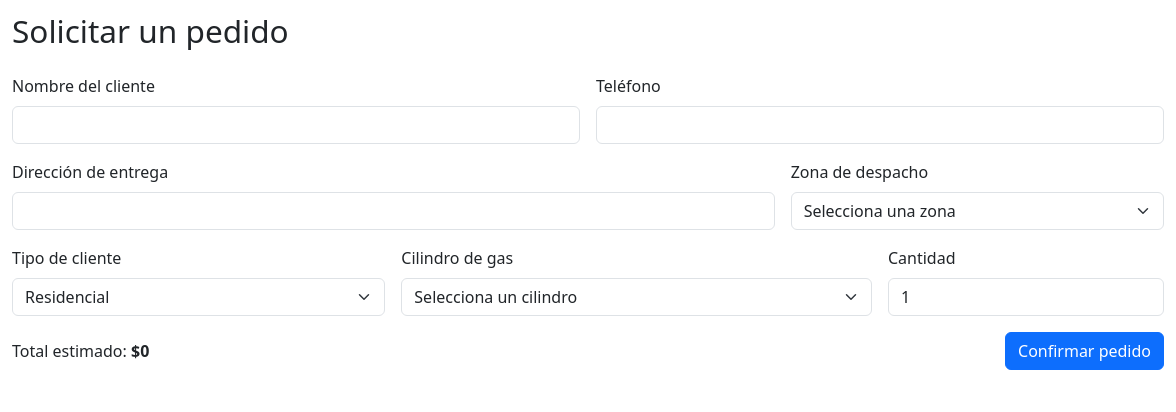
Test case: FormularioNuevoPedido › no permite pedir más unidades que el stock disponible
Type "Ana Pérez" into the field labelled "Nombre del cliente" at (296, 125), box [12,106,580,144]
Type "+56912345678" into the field labelled "Teléfono" at (880, 125), box [596,106,1164,144]
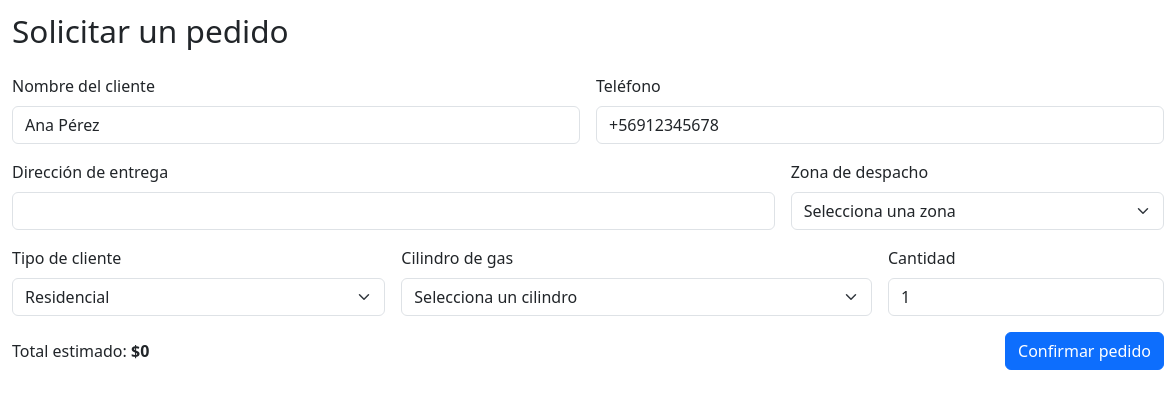
Type "Av. Libertad 100, Chillán" into the field labelled "Dirección de entrega" at (393, 211), box [12,192,775,230]
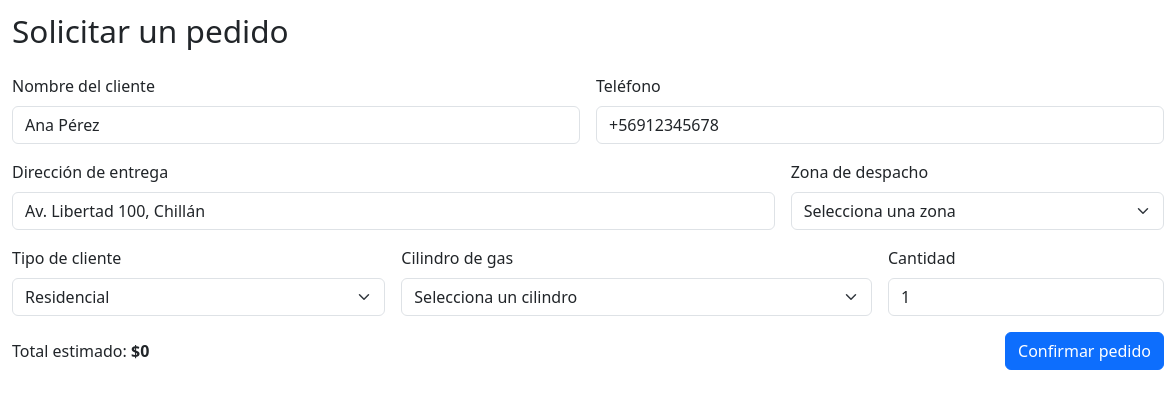
Select "Zona Centro" in the dropdown labelled "Zona de despacho" at (977, 211), box [791,192,1164,230]
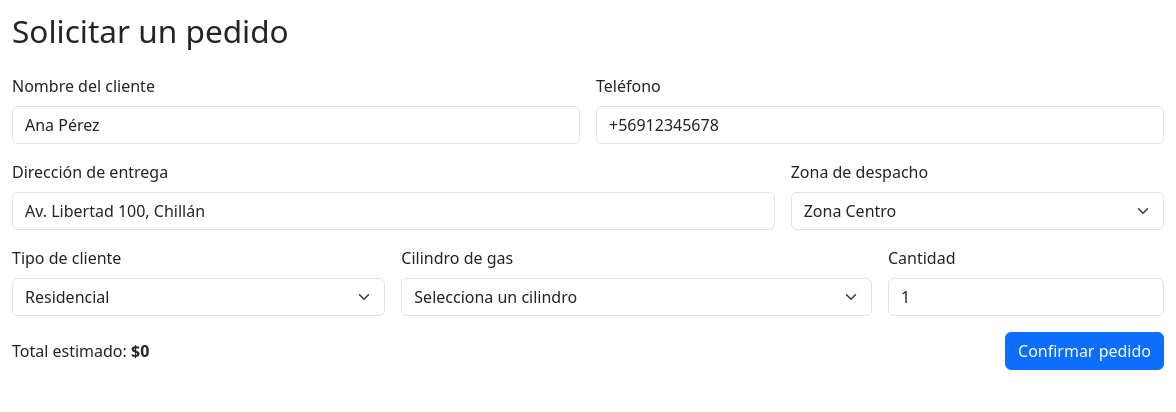
Select "Cilindro GLP 11 kg" in the dropdown labelled "Cilindro de gas" at (637, 297), box [401,278,872,316]
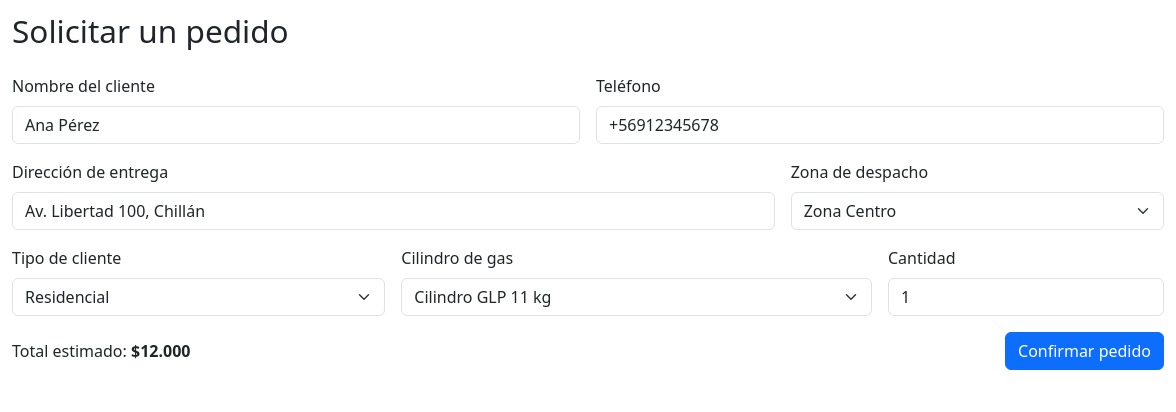
Replace the text in the number field labelled "Cantidad" with "99999" at (1026, 297), box [888,278,1164,316]
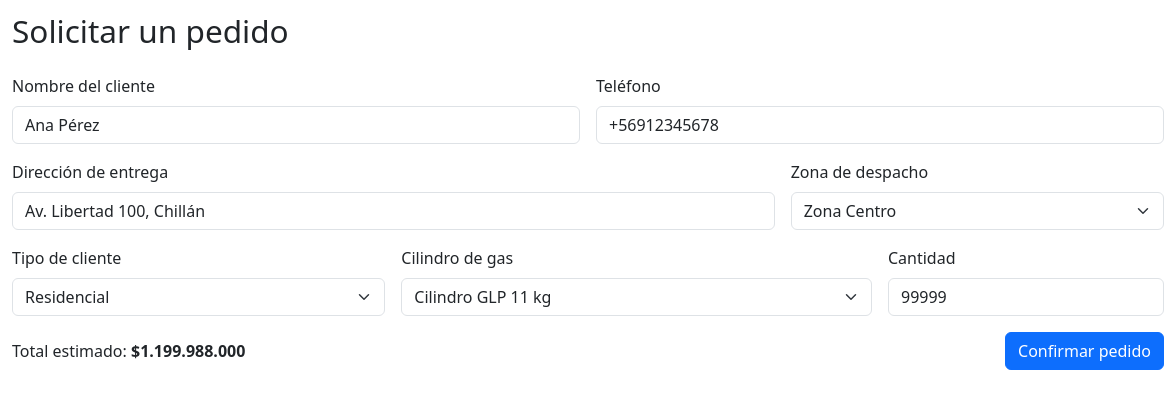
Click the button "Confirmar pedido" at (1084, 351), box [1005,332,1164,370]
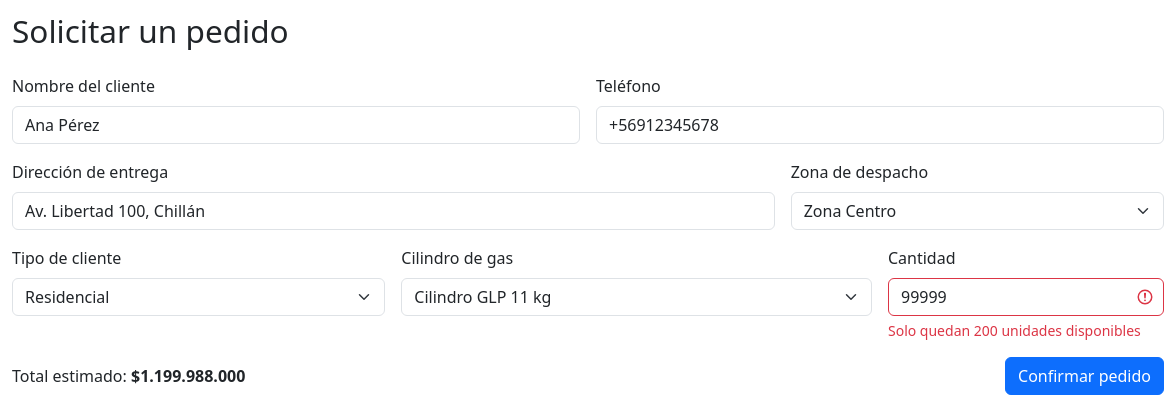
Expected: the text "Solo quedan 200 unidades disponibles" is shown, [888,320,1164,341]
